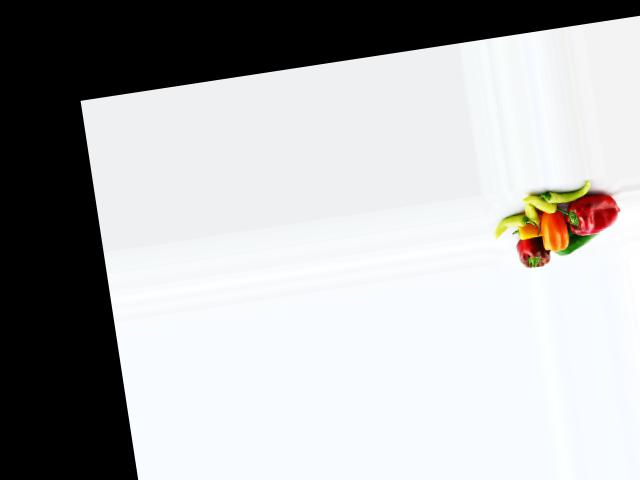bell_pepper: (535, 180, 596, 206)
